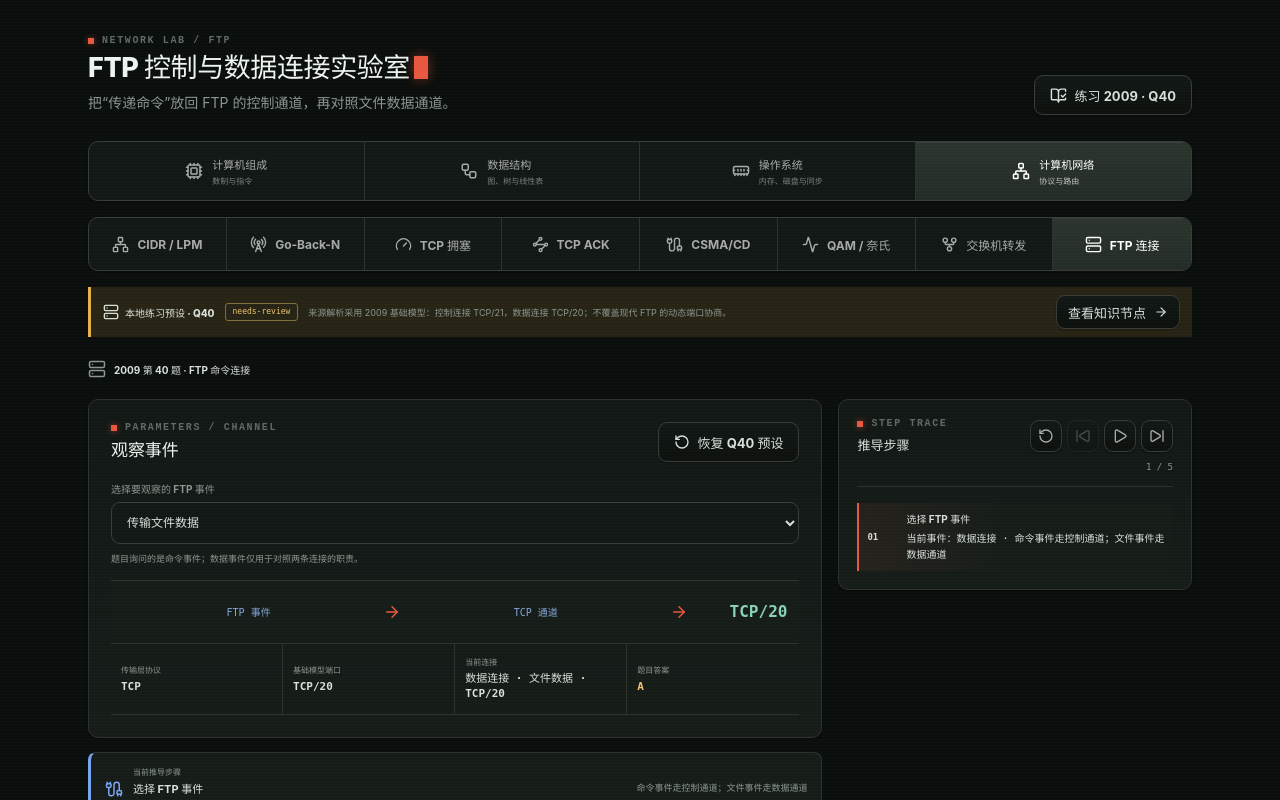
Test: FtpControlConnectionLabPage › switches to the data connection and keeps the channel in the URL
Expected: the element labelled "当前连接" shows "TCP/20", [455,644,627,714]
Select "发送 FTP 命令" in the dropdown named "观察事件" at (455, 524), box [111,502,799,544]
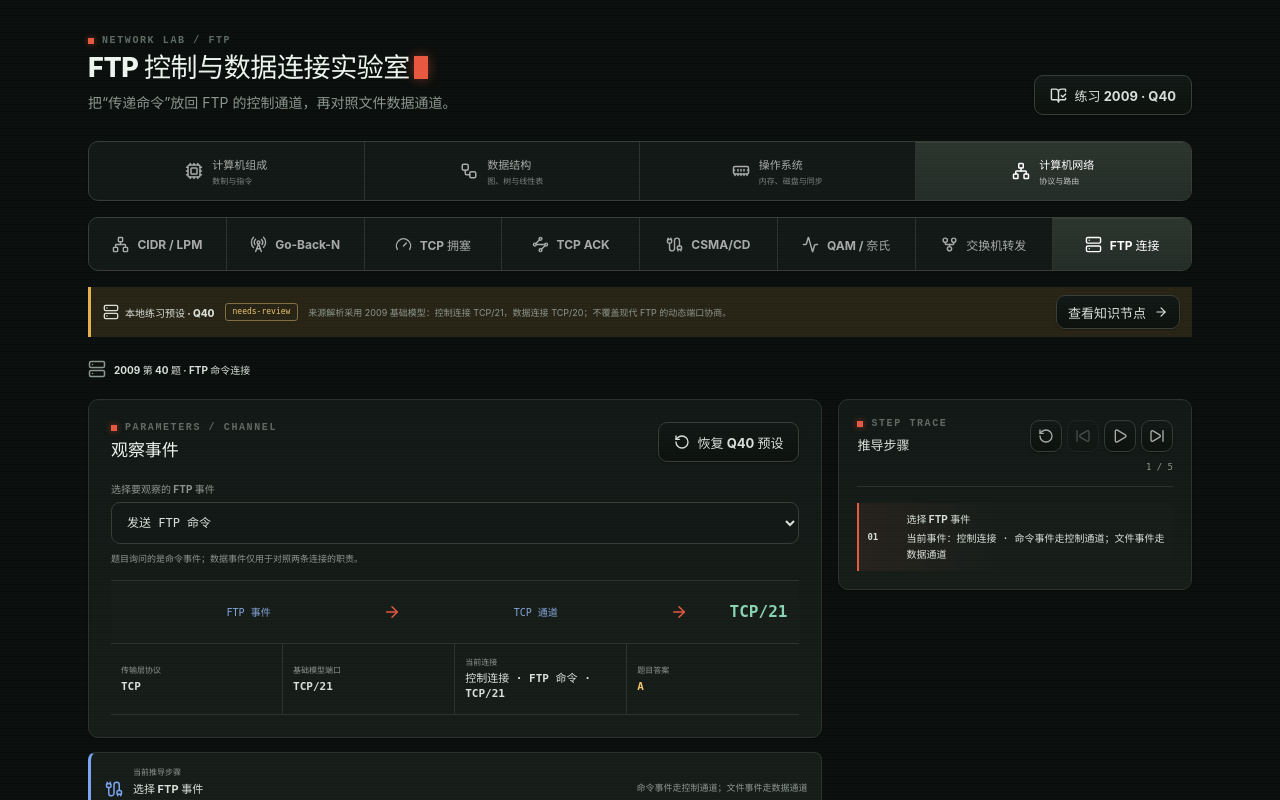
Result: the element labelled "当前连接" shows "TCP/21" at [455,644,627,714]
